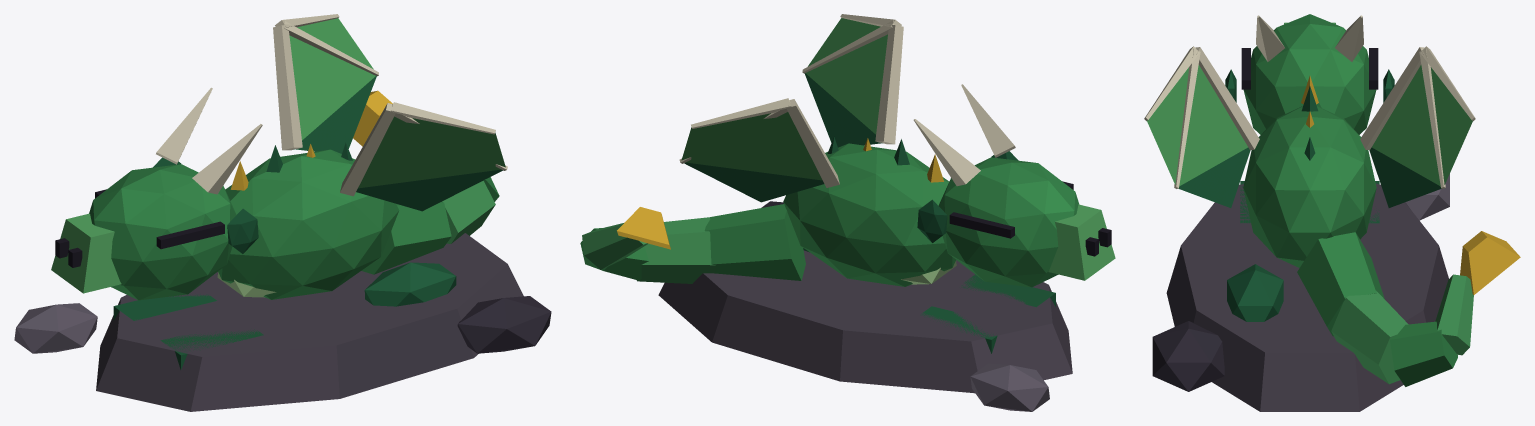
The model's file is Decor_DragonLair_Baby.fbx.
3 renders of one model, left to right at view 1: azimuth 30°, elevation 25°; view 2: azimuth 150°, elevation 25°; view 3: azimuth 270°, elevation 25°, orthographic. The views are drawn at different scales.
Visible parts, largest first — view 1: Baby_Body; view 2: Baby_Body; view 3: Baby_Body.
Part boxes in pixels (x1,y1,x2,y2): Baby_Body: (14, 14, 551, 411); Baby_Body: (580, 14, 1115, 411); Baby_Body: (1144, 14, 1520, 411).
Size of the model in its own units: 15.5 by 8.4 by 10.1.
